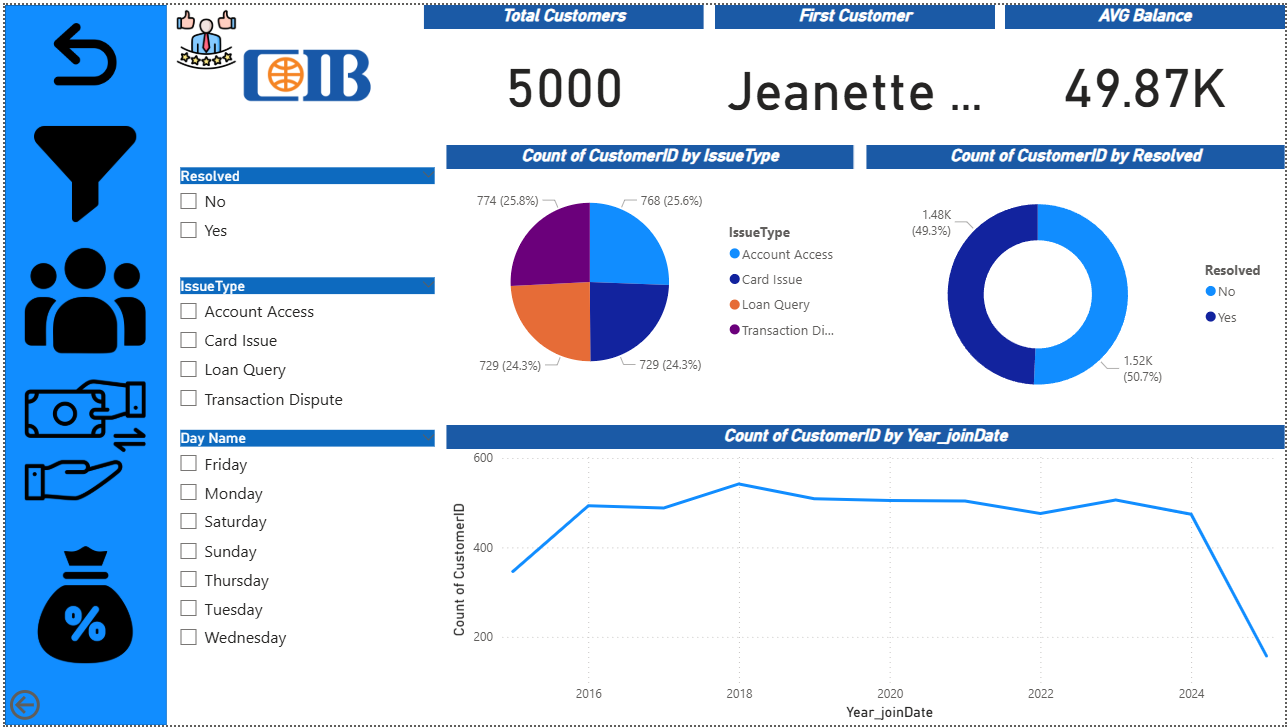

What the dashboard file says about the page in this screenshot:
{"tool":"powerbi","page":{"name":"Customer","canvas":[1280,720],"ordinal":1},"visuals":[{"type":"image","box":[161.9,0,279.9,140],"z":0},{"type":"shape","box":[0,0,161.9,720.4],"z":1000},{"type":"image","box":[15.1,322.5,130.4,225],"z":2000},{"type":"image","box":[15.1,211.3,130.4,168.8],"z":3000},{"type":"image","box":[15.1,525.6,130.4,149.6],"z":4000},{"type":"image","box":[15.1,85.1,130.4,161.9],"z":5000},{"type":"image","box":[15.1,0,130.4,98.8],"z":6000},{"type":"slicer","fields":{"Values":["SupportCalls.Resolved"]},"box":[161.9,157.8,279.9,107],"z":7000},{"type":"slicer","fields":{"Values":["SupportCalls.IssueType"]},"box":[161.9,267.6,279.9,152.3],"z":8000},{"type":"slicer","fields":{"Values":["SupportCalls.Day Name"]},"box":[161.9,419.9,279.9,255.2],"z":9000},{"type":"card","title":"Total Customers","fields":{"Values":["CountNonNull(Customers.CustomerID)"]},"box":[418.5,0,279.9,133.1],"z":10000},{"type":"card","title":"First Customer","fields":{"Values":["measures (2).First Customer"]},"box":[709.4,0,279.9,140],"z":11000},{"type":"card","title":"AVG Balance","fields":{"Values":["Avg(Accounts.Balance)"]},"box":[1000.3,0,279.9,133.1],"z":12000},{"type":"pieChart","fields":{"Series":["SupportCalls.IssueType"],"Y":["CountNonNull(SupportCalls.CustomerID)"]},"box":[441.9,140,407.5,255.2],"z":13000},{"type":"lineChart","fields":{"Category":["Customers.Year_joinDate"],"Y":["CountNonNull(Customers.CustomerID)"]},"box":[441.9,419.9,838.4,300.5],"z":14000},{"type":"donutChart","fields":{"Y":["CountNonNull(SupportCalls.CustomerID)"],"Category":["SupportCalls.Resolved"]},"box":[861.8,140,418.5,279.9],"z":15000},{"type":"image","box":[161.9,0,78.2,70],"z":16000},{"type":"actionButton","box":[0,680.6,100.2,39.8],"z":17000}]}

Visuals, with their boxes in screenshot pixels (x1, y1, x2, y2), scaled from the page's 1280x720 canvas onto the 1287x727 screenshot:
image: bbox(163, 0, 444, 141)
shape: bbox(0, 0, 163, 726)
image: bbox(15, 326, 146, 553)
image: bbox(15, 213, 146, 384)
image: bbox(15, 531, 146, 682)
image: bbox(15, 86, 146, 249)
image: bbox(15, 0, 146, 100)
slicer - SupportCalls.Resolved: bbox(163, 159, 444, 267)
slicer - SupportCalls.IssueType: bbox(163, 270, 444, 424)
slicer - SupportCalls.Day Name: bbox(163, 424, 444, 682)
"Total Customers" card: bbox(421, 0, 702, 134)
"First Customer" card: bbox(713, 0, 995, 141)
"AVG Balance" card: bbox(1006, 0, 1286, 134)
pieChart - SupportCalls.IssueType x CountNonNull(SupportCalls.CustomerID): bbox(444, 141, 854, 399)
lineChart - Customers.Year_joinDate x CountNonNull(Customers.CustomerID): bbox(444, 424, 1286, 726)
donutChart - CountNonNull(SupportCalls.CustomerID) x SupportCalls.Resolved: bbox(867, 141, 1286, 424)
image: bbox(163, 0, 241, 71)
actionButton: bbox(0, 687, 101, 726)
